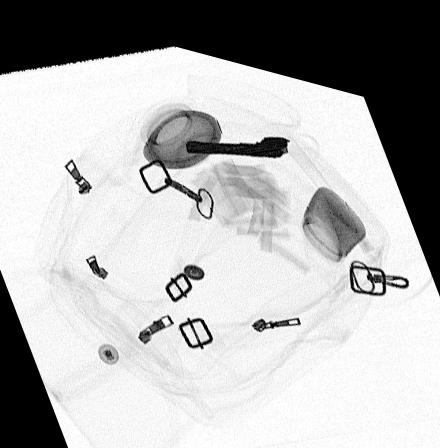Gun: (185, 121, 292, 143)
